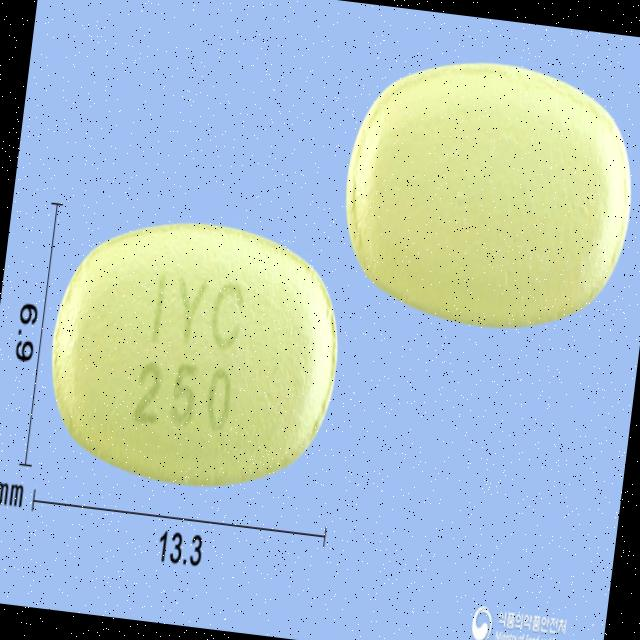Clafacin -500mg: (32, 198, 356, 510), (324, 38, 640, 348)
